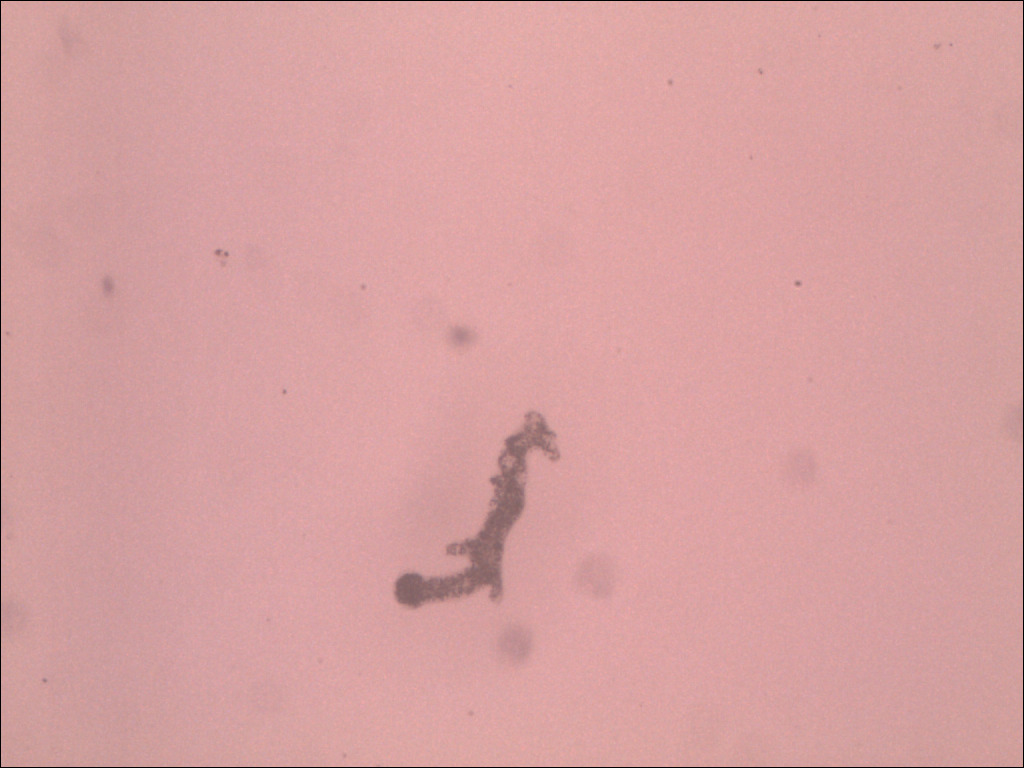amoeba: (387, 405, 573, 621)
